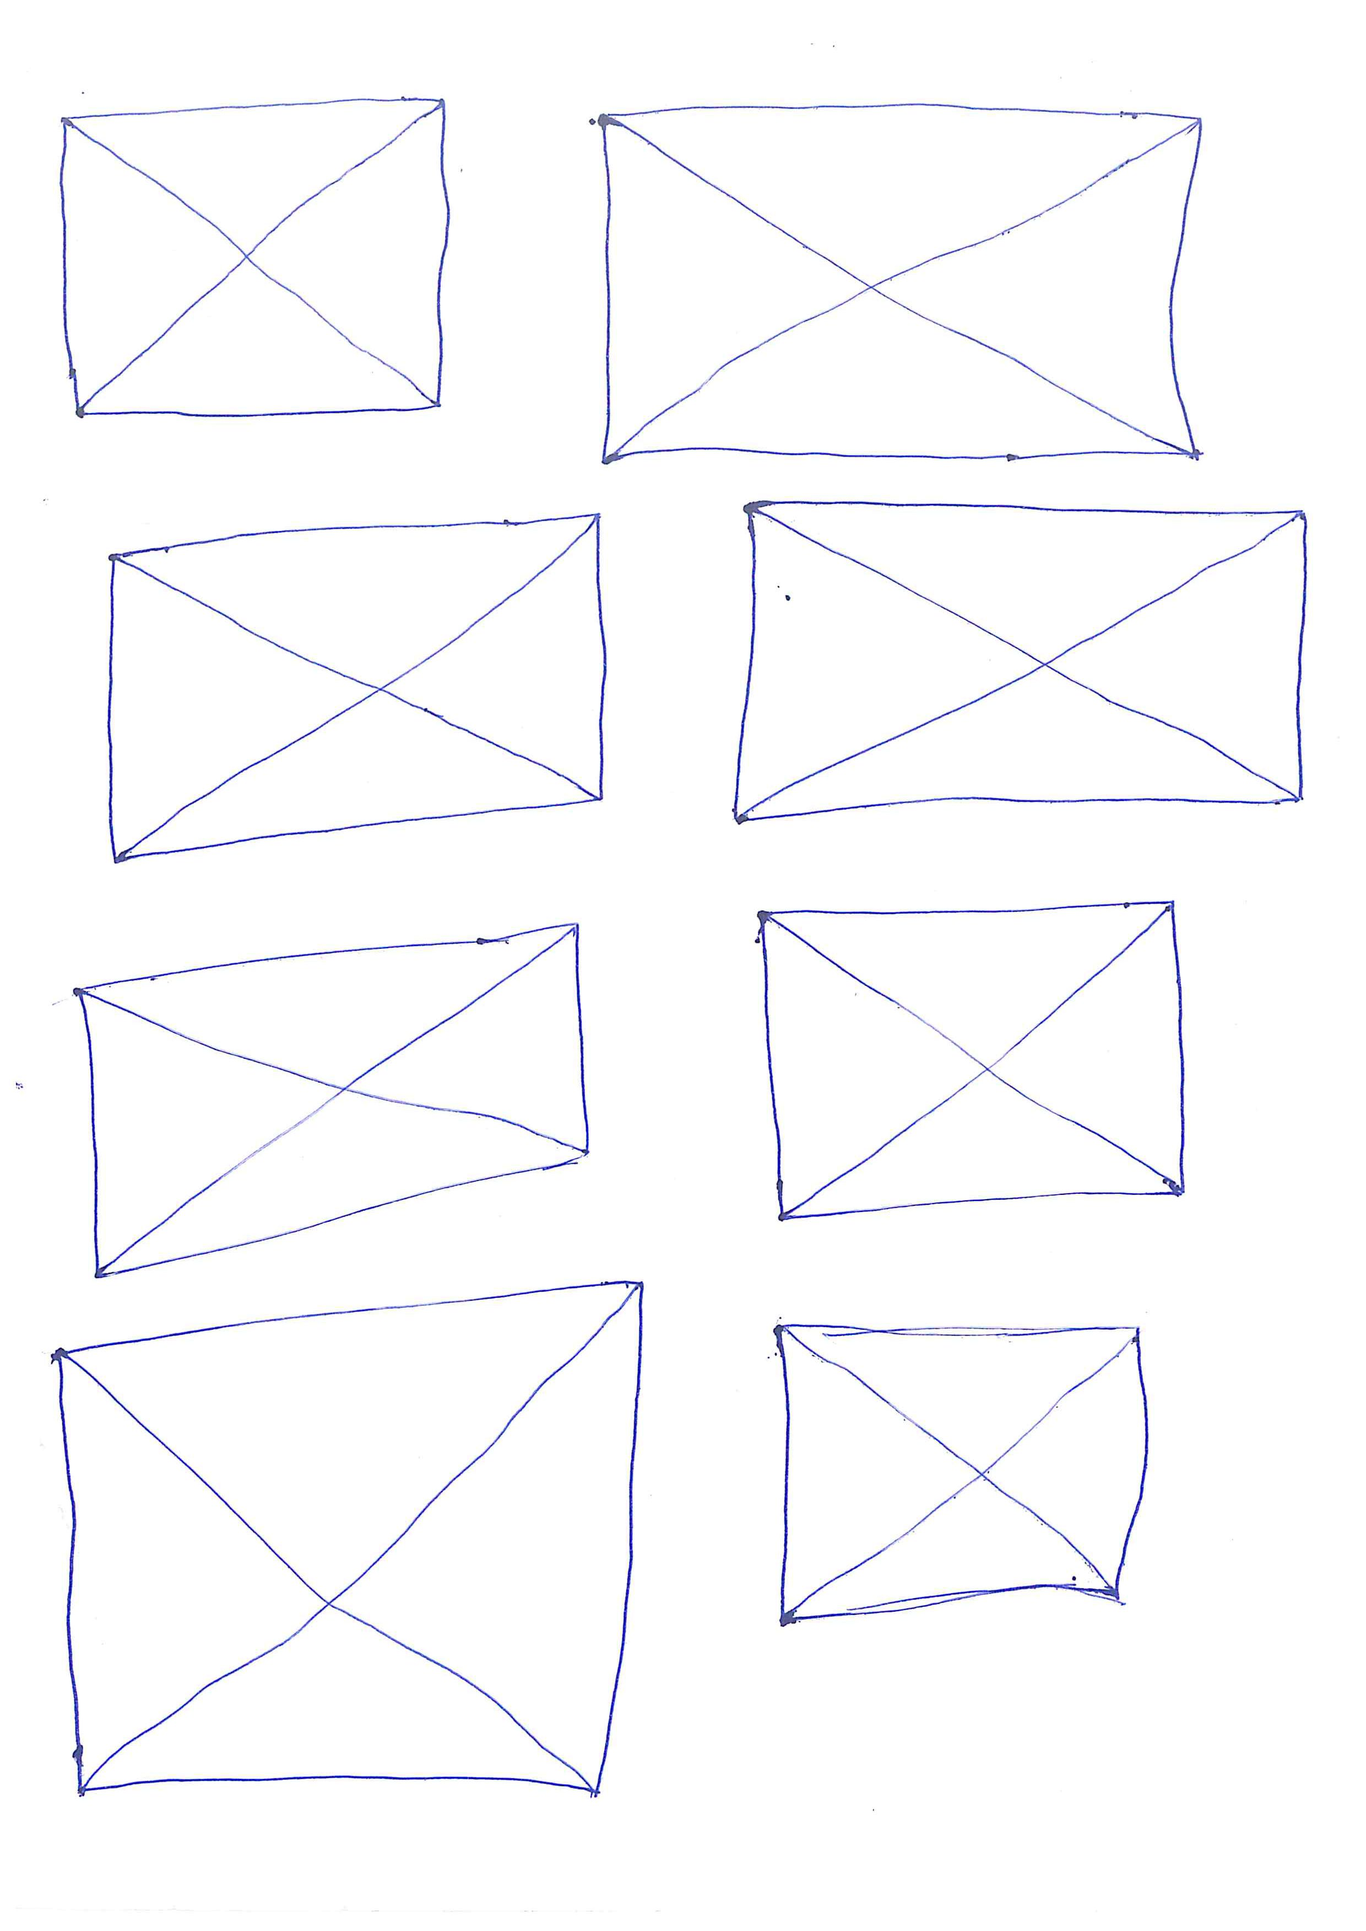Image: (47, 1273, 648, 1802), (594, 98, 1203, 473), (730, 491, 1316, 829), (74, 909, 591, 1282), (103, 503, 612, 865), (758, 892, 1195, 1226), (53, 95, 452, 426), (775, 1311, 1152, 1635)
